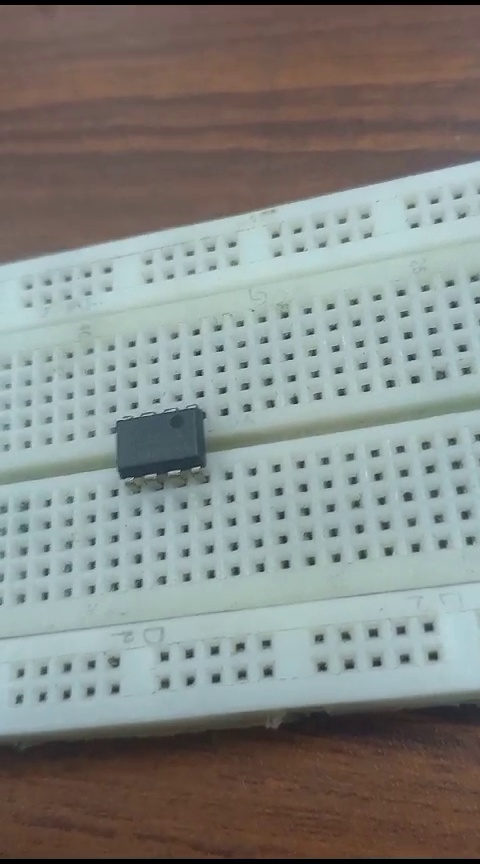IC: (98, 404, 227, 484)
